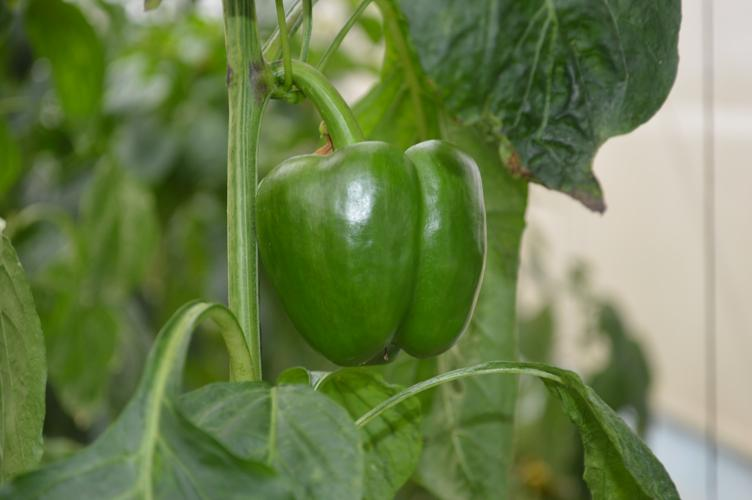BellPepper: (251, 142, 487, 362)
